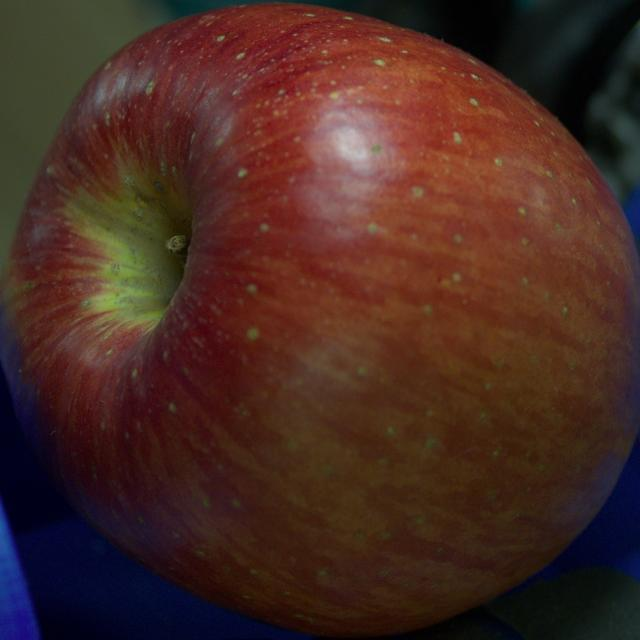apple: (0, 5, 639, 636)
